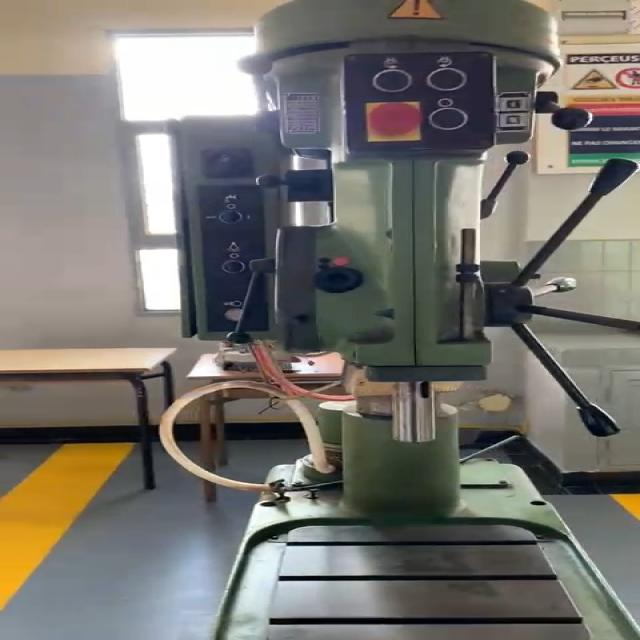perceuse: (168, 0, 640, 640)
